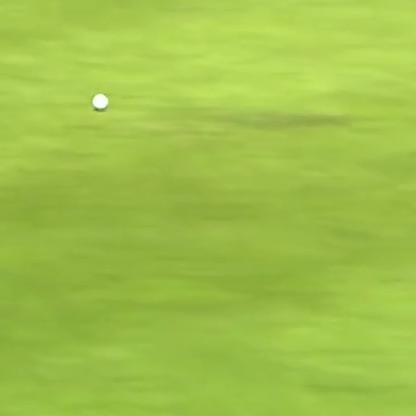golfball: (92, 90, 108, 108)
